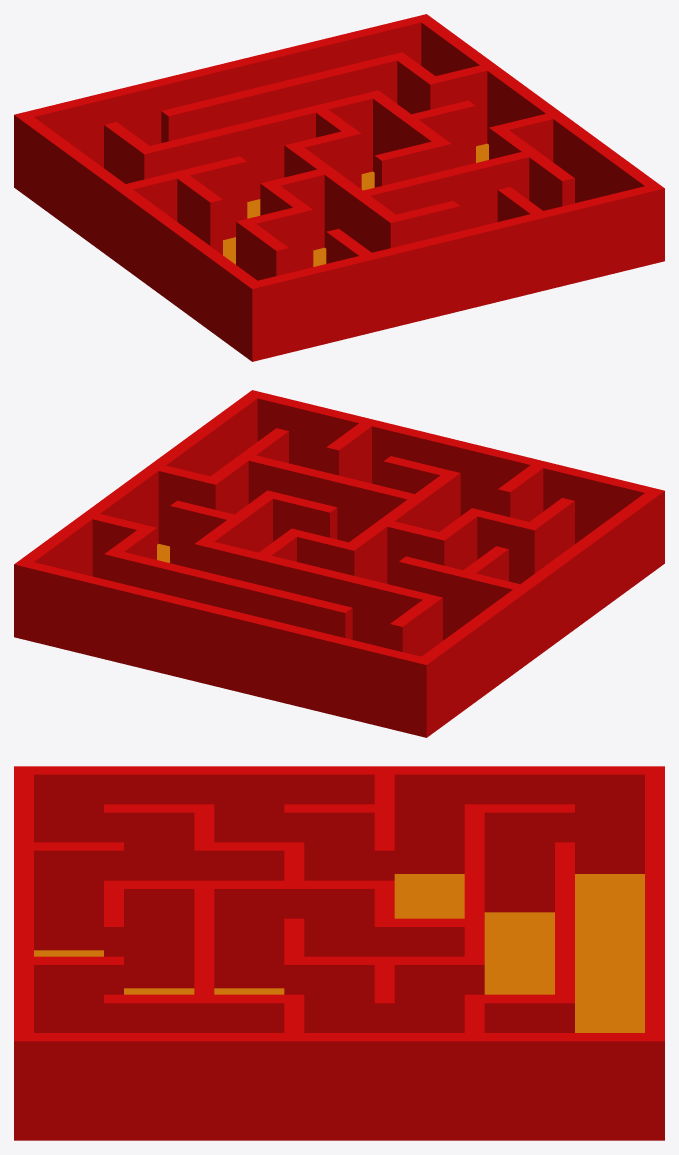
File: Level3Ground.FBX
3 renders of one model, top to bottom at view 1: azimuth 30°, elevation 25°; view 2: azimuth 150°, elevation 25°; view 3: azimuth 270°, elevation 25°, orthographic. The views are drawn at different scales.
Parts seen in each view (by area): view 1: Labyrinth002; view 2: Labyrinth002; view 3: Labyrinth002.
Part boxes in pixels (box(x1,y1,x2,y2)): Labyrinth002: box(14, 14, 664, 361); Labyrinth002: box(14, 390, 664, 737); Labyrinth002: box(14, 766, 664, 1140).
Bounding box in the file's own units: 166 × 28 × 166.
